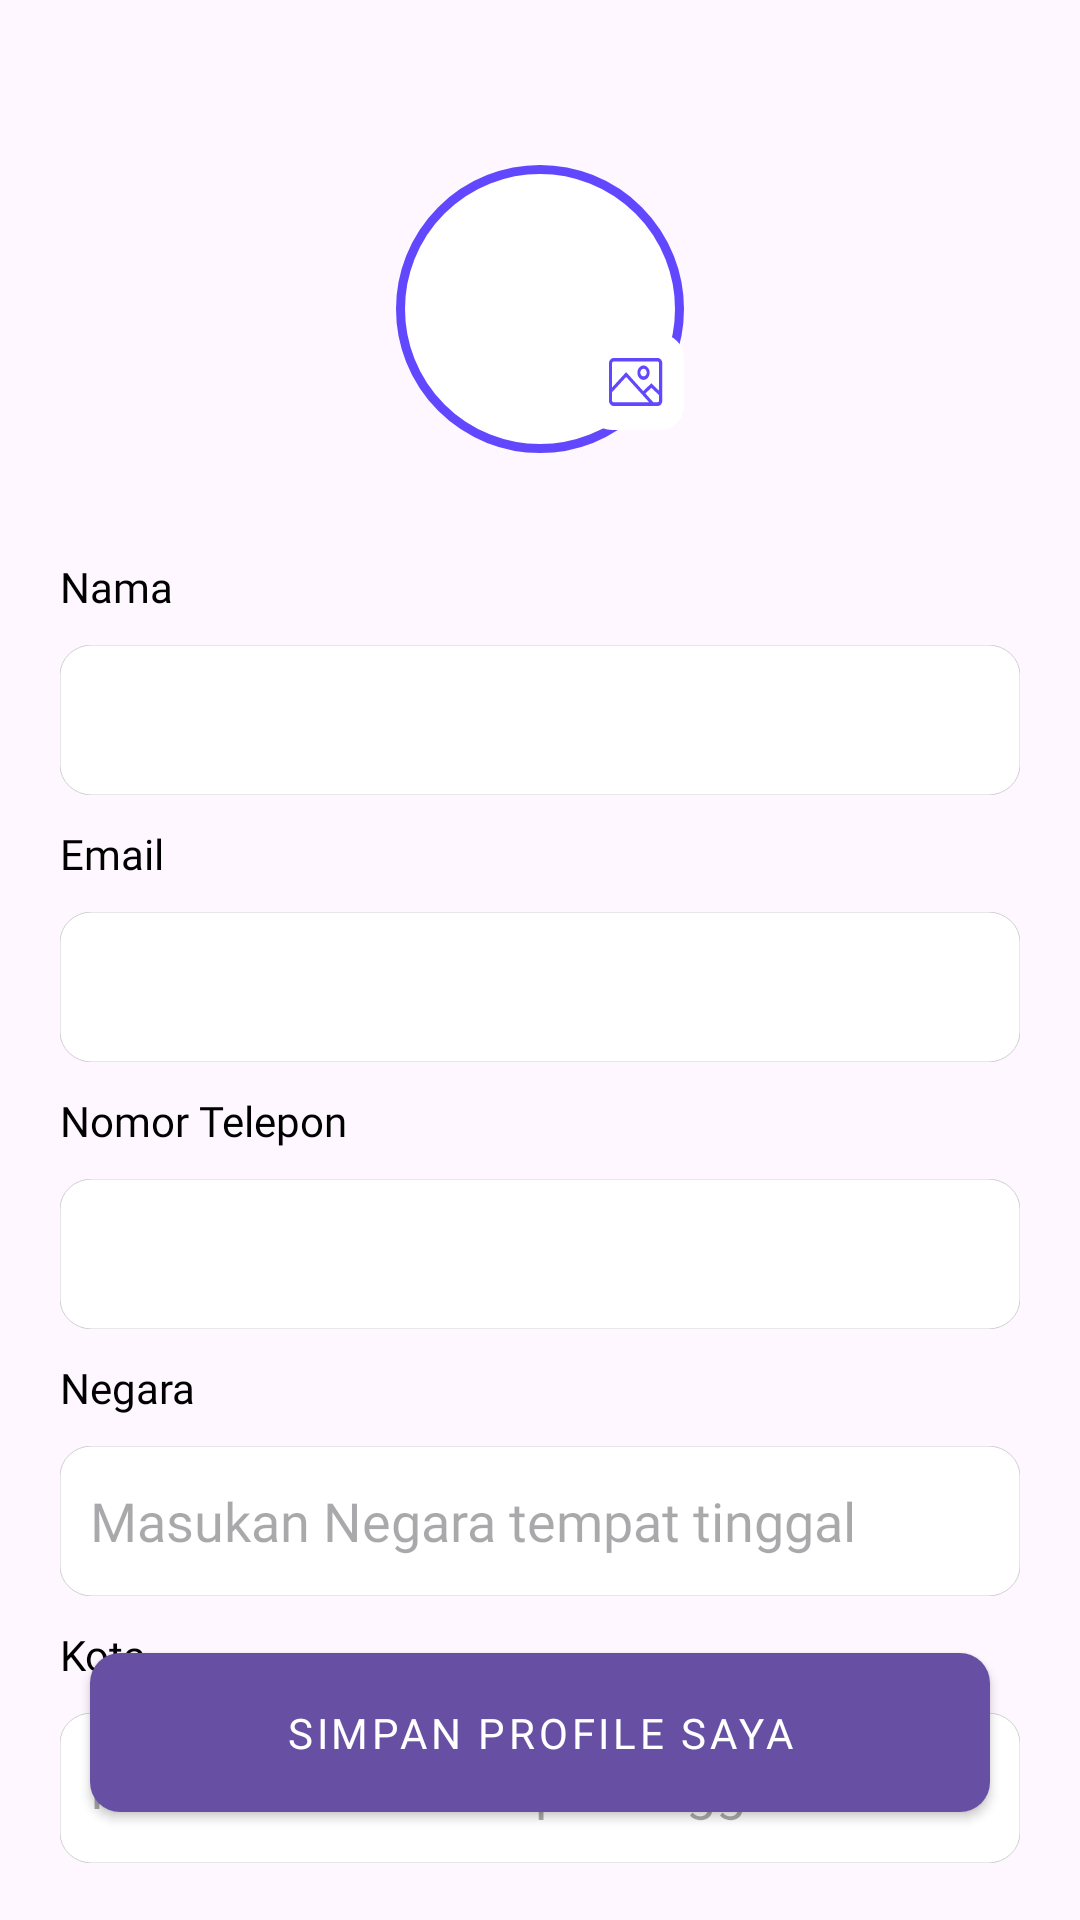

Icon bounding boxes for this 1080px x 1920px phone screenshot, format (x1, y1, x2, y2):
foto: (609, 358, 663, 406)
